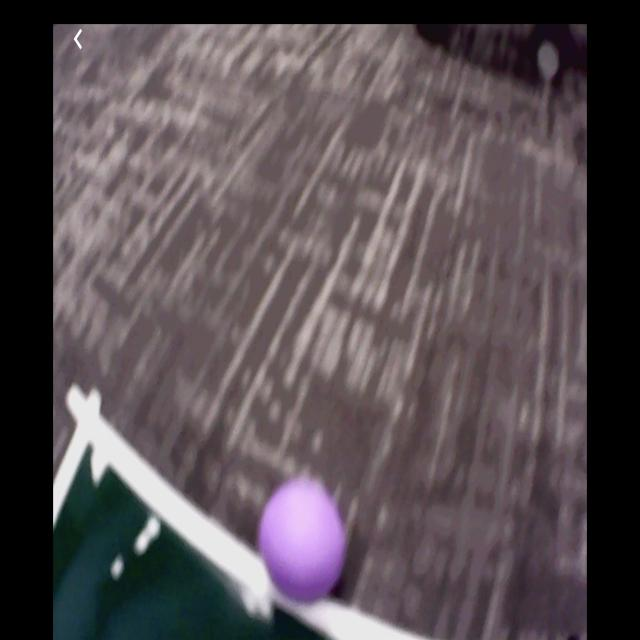ball: (261, 475, 343, 606)
